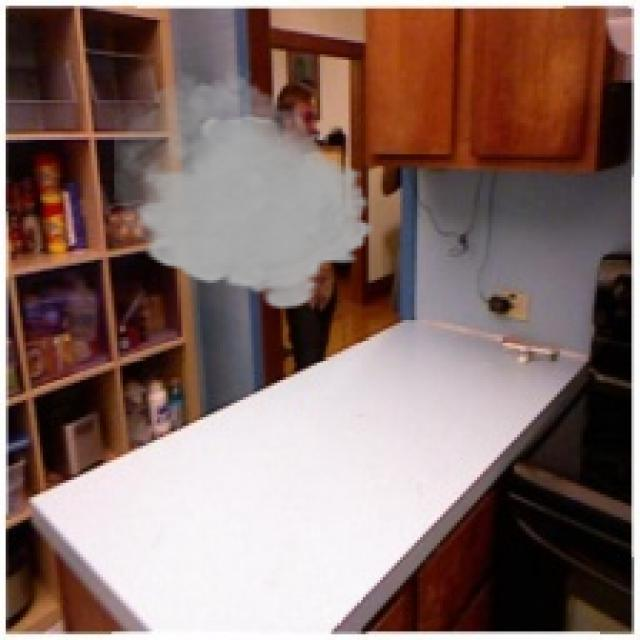Smoke: (114, 62, 377, 312)
